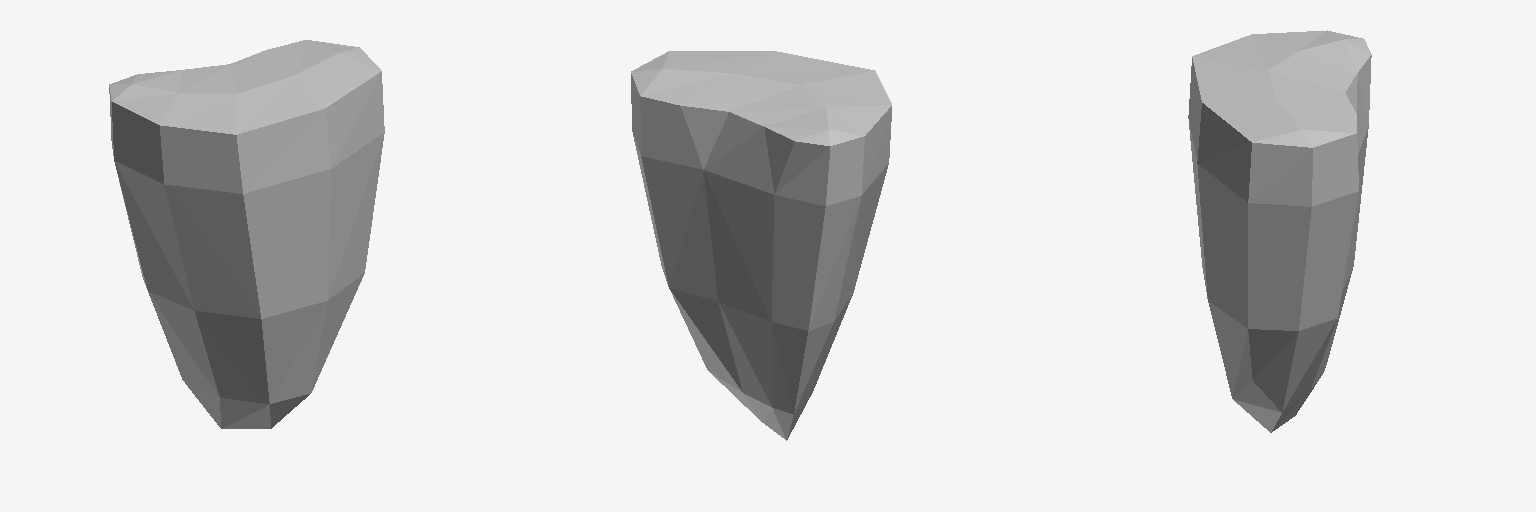
Rendered from step_stone_06_lava.obj.
3 renders of one model, left to right at view 1: azimuth 30°, elevation 25°; view 2: azimuth 150°, elevation 25°; view 3: azimuth 270°, elevation 25°, orthographic.
Visible parts, largest first — view 1: step_stone_06_lava; view 2: step_stone_06_lava; view 3: step_stone_06_lava.
Boxes of the visible parts, <box> form: step_stone_06_lava: <box>109,40,384,428</box>; step_stone_06_lava: <box>631,51,891,440</box>; step_stone_06_lava: <box>1188,30,1371,432</box>.
Size of the model in its own units: 210 by 287 by 138.